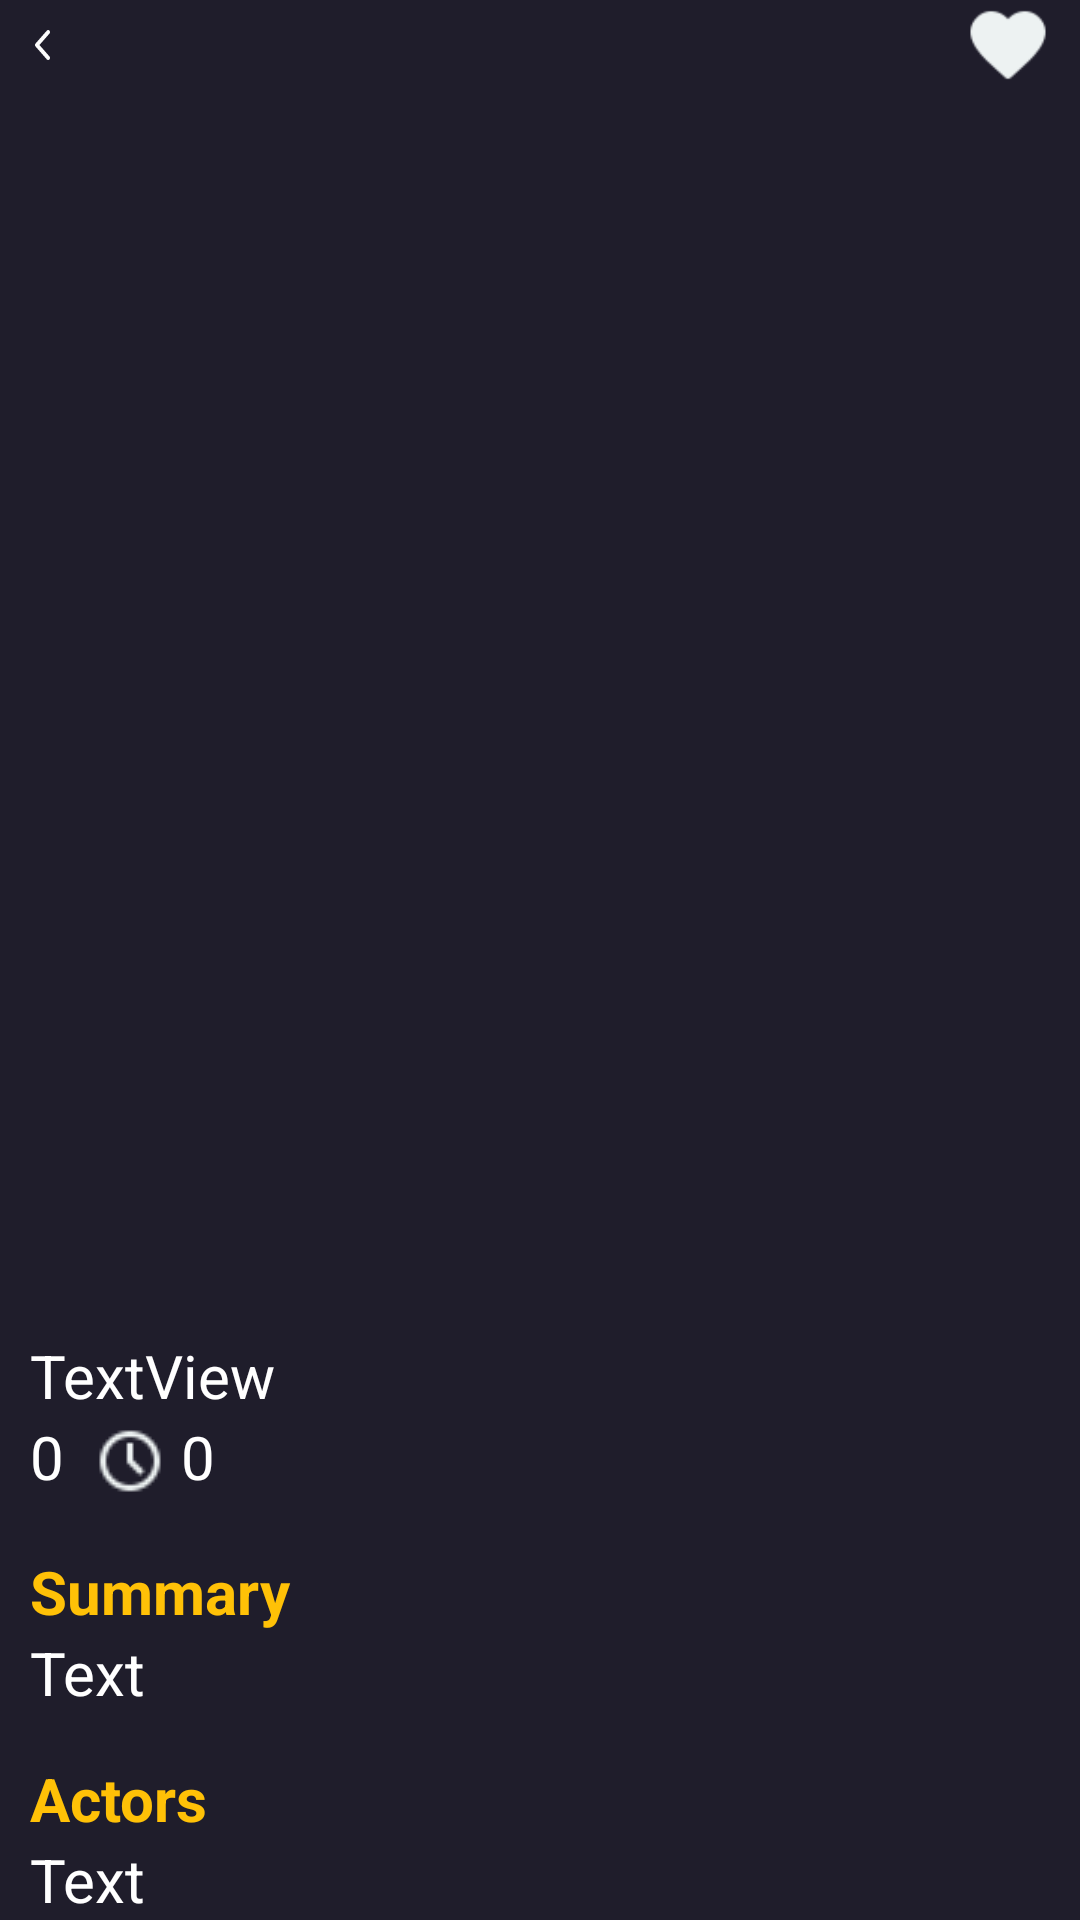

Where icons sit on this 1080*1920 app screen, as (x1, y1, x2, y2):
back: (35, 30, 50, 60)
clock: (99, 1430, 161, 1492)
whiteheart: (970, 11, 1046, 79)
